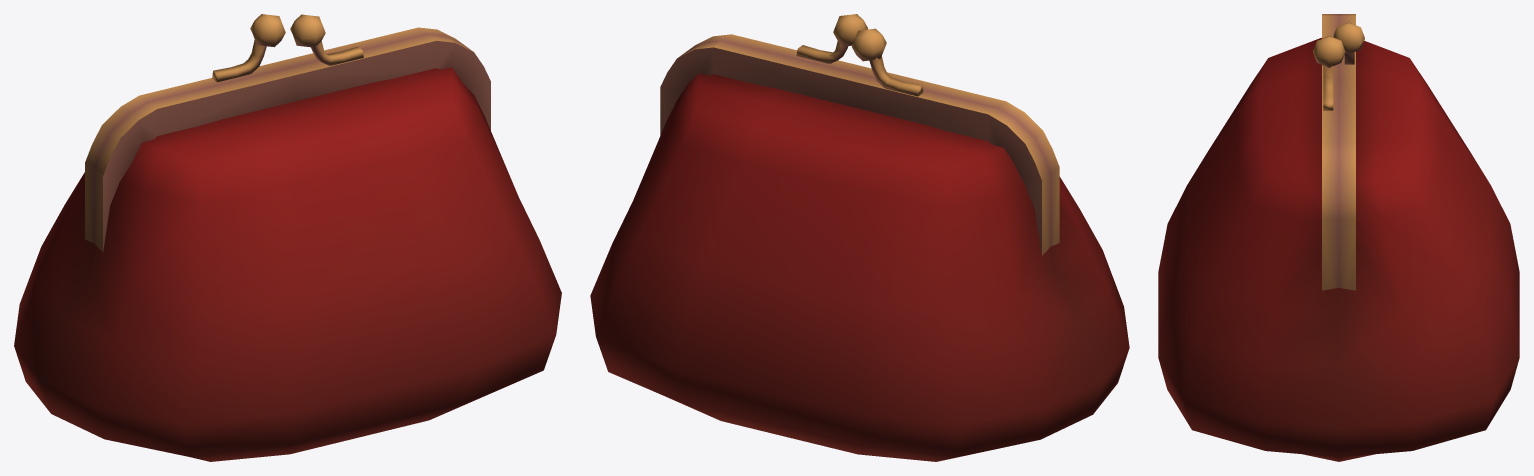
File: human-clothing-coin-purse_v1.fbx
3 views of the same model, side by side, from view 1: azimuth 30°, elevation 25°; view 2: azimuth 150°, elevation 25°; view 3: azimuth 270°, elevation 25° (orthographic). The views are drawn at different scales.
Parts seen in each view (by area): view 1: Coin Purse; view 2: Coin Purse; view 3: Coin Purse.
Boxes of the visible parts, x1,y1,x2,y2 form: Coin Purse: [14, 14, 561, 461]; Coin Purse: [590, 14, 1129, 461]; Coin Purse: [1158, 14, 1519, 461].
Size of the model in its own units: 0.15 by 0.1101 by 0.1013.
